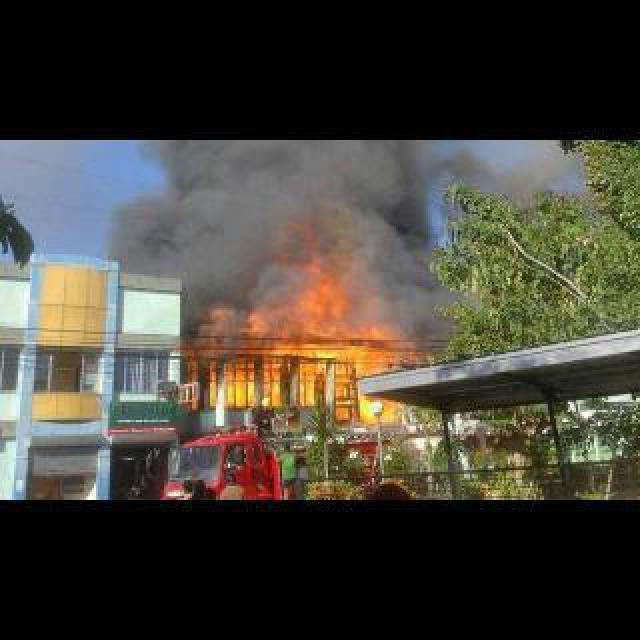Fire: (194, 286, 420, 422)
Smoke: (98, 140, 442, 274), (338, 138, 468, 328)
